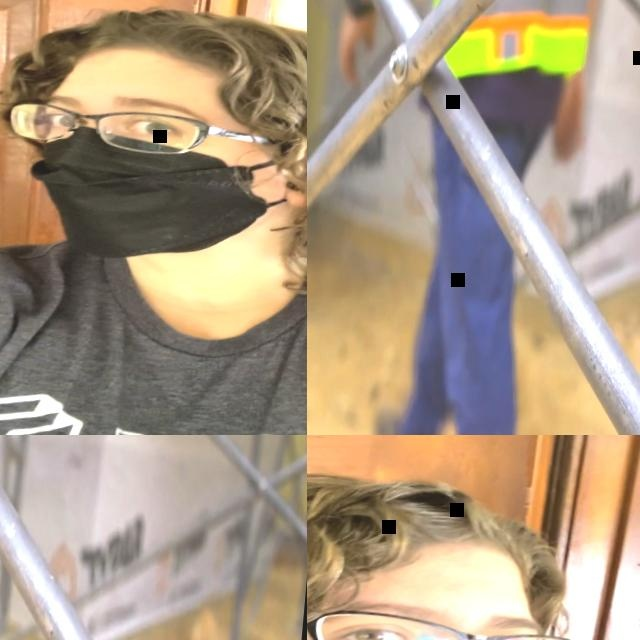Mask: (24, 122, 300, 273)
NO-Hardhat: (307, 456, 551, 607), (42, 0, 307, 118)
NO-Safety Vest: (0, 235, 307, 435)
Person: (0, 0, 307, 435), (307, 0, 609, 435), (307, 447, 640, 640)
Safety Vest: (412, 0, 601, 84)
